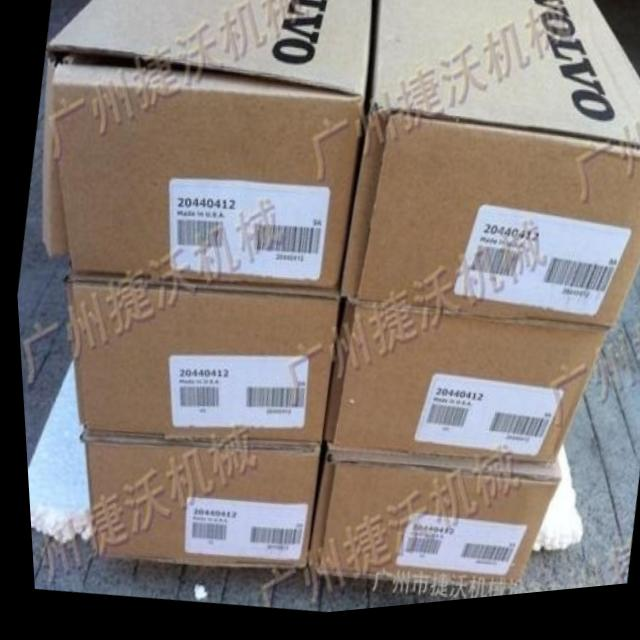box: (337, 0, 640, 342), (38, 0, 373, 297), (60, 269, 336, 451), (317, 304, 605, 475), (300, 446, 554, 597), (75, 433, 314, 573)
